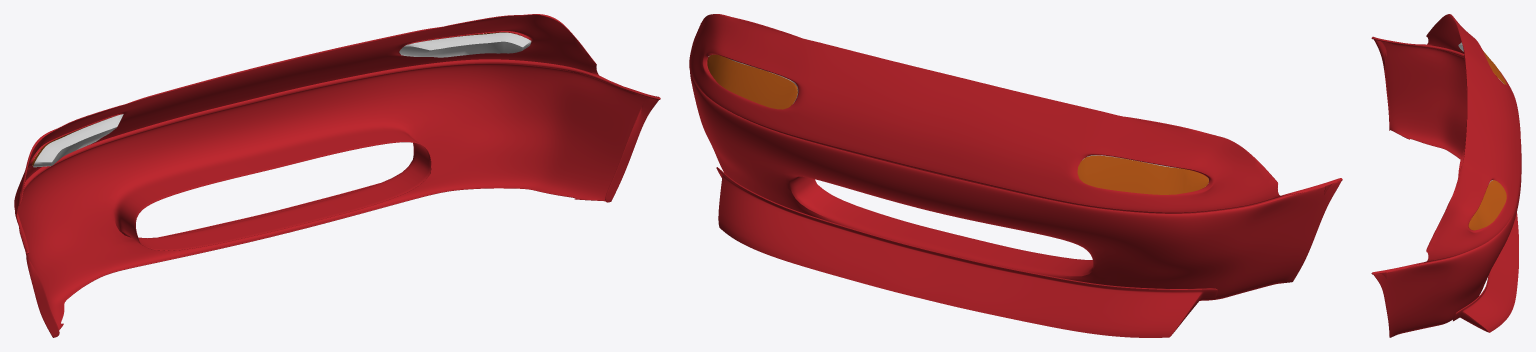
Rendered from lip-3.glb.
The picture shows the model from 3 angles, left to right: view 1: azimuth 30°, elevation 25°; view 2: azimuth 150°, elevation 25°; view 3: azimuth 270°, elevation 25°; orthographic projection. The views are drawn at different scales.
Visible parts, largest first — view 1: Miata_Aero_FrontBarLip3; view 2: Miata_Aero_FrontBarLip3; view 3: Miata_Aero_FrontBarLip3.
Boxes of the visible parts, x1,y1,x2,y2 form: Miata_Aero_FrontBarLip3: [14, 14, 660, 337]; Miata_Aero_FrontBarLip3: [689, 14, 1342, 337]; Miata_Aero_FrontBarLip3: [1371, 14, 1521, 337].
Bounding box in the file's own units: 64.14 × 18.83 × 17.2.
